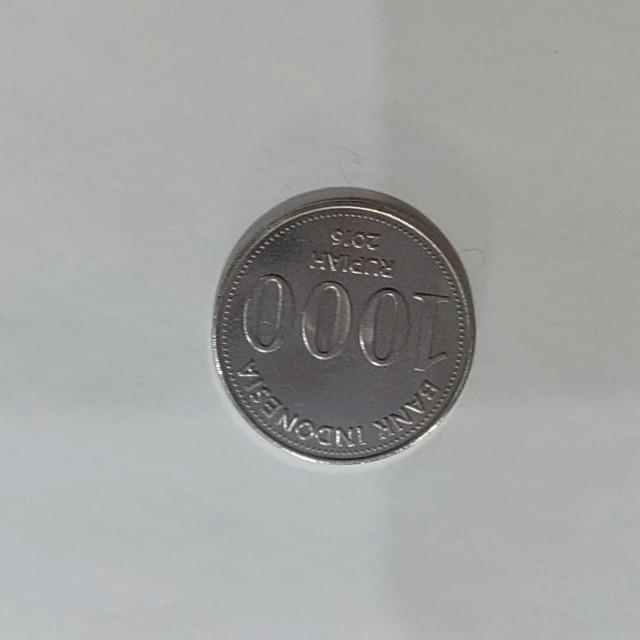Rp100: (209, 184, 477, 466)
